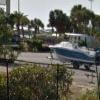Boat: (45, 31, 100, 77)
